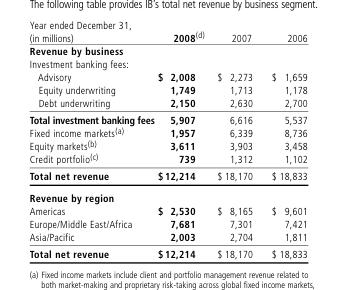table: (28, 29, 306, 259)
table column: (28, 29, 155, 259), (155, 29, 210, 259), (210, 29, 261, 259), (261, 29, 306, 259)
table column header: (28, 29, 306, 43)
table projected row header: (28, 186, 306, 203), (28, 43, 306, 56), (28, 56, 306, 69)
table row: (28, 167, 306, 186), (28, 186, 306, 203), (28, 151, 306, 167), (28, 96, 306, 111), (28, 229, 306, 244), (28, 244, 306, 259), (28, 29, 306, 43), (28, 82, 306, 96), (28, 111, 306, 125), (28, 43, 306, 56), (28, 56, 306, 69), (28, 69, 306, 82), (28, 125, 306, 138), (28, 138, 306, 151), (28, 203, 306, 216), (28, 216, 306, 229)
